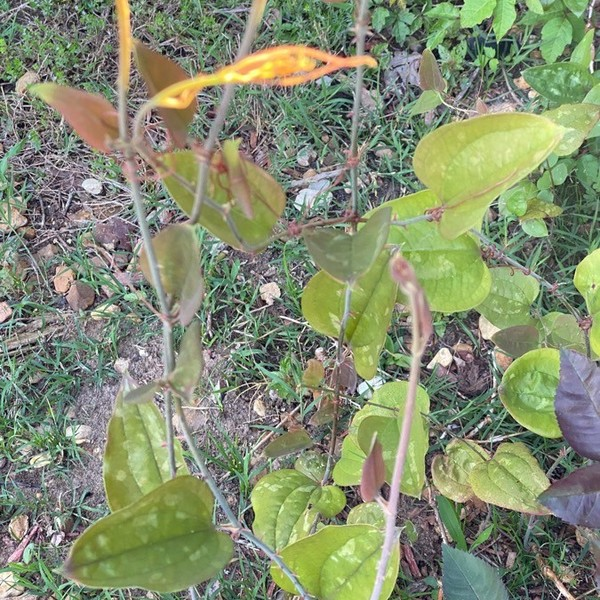obstacle: (292, 79, 568, 369), (97, 393, 412, 594)
